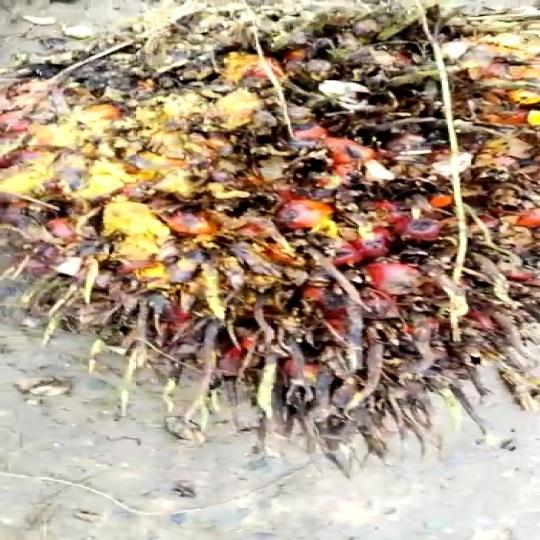terlalu masak: (0, 0, 540, 453)
